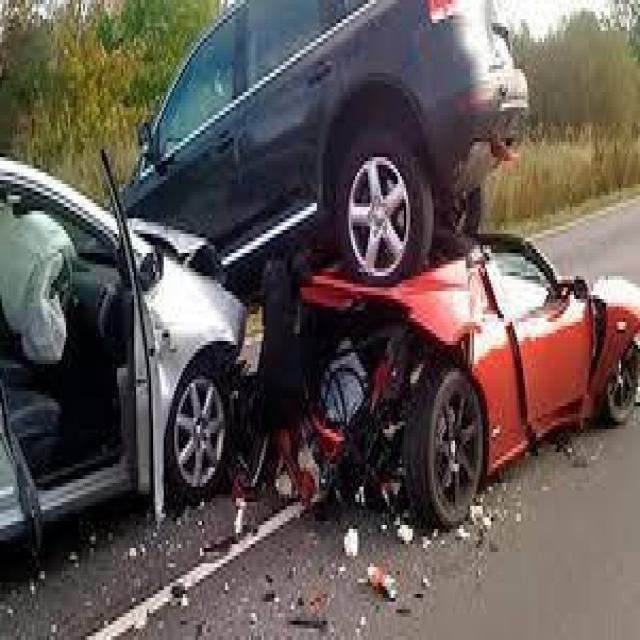accident: (0, 3, 638, 560)
